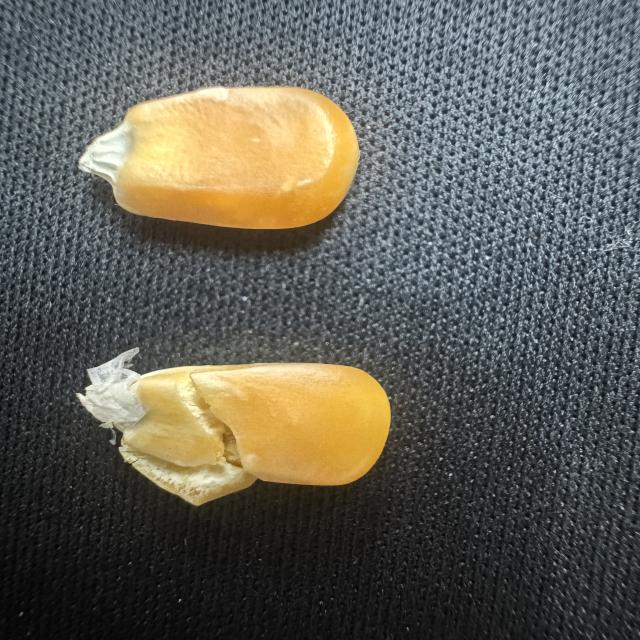Bad-Seed: (72, 343, 402, 517)
Good-Seed: (64, 78, 367, 238)
